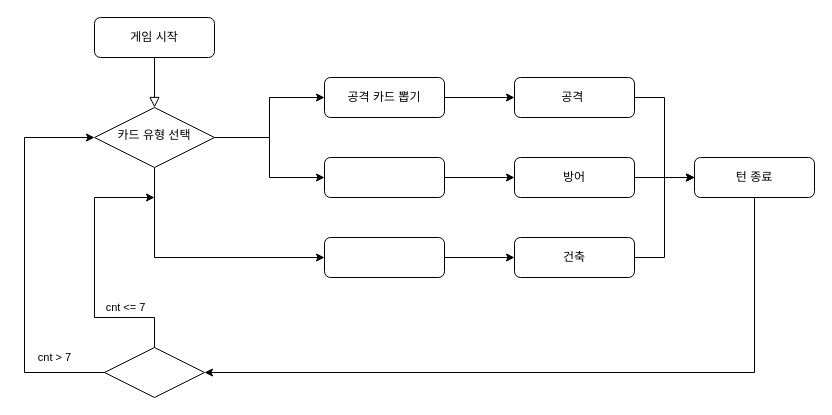
The diagram is 832 pixels wide and 415 high, and some of its shapes have lost their labels. The box of each missing label's shape, as (x1, y1, x2, y2) in pixels:
건축 카드 뽑기: (324, 236, 444, 278)
방어 카드 뽑기: (324, 156, 444, 198)
진행된 턴 횟수: (104, 346, 204, 398)
